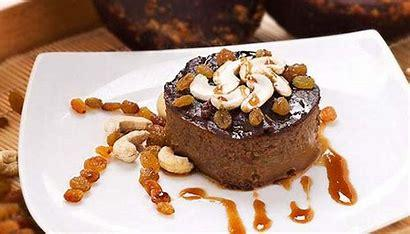Watalappam: (152, 34, 343, 208)
